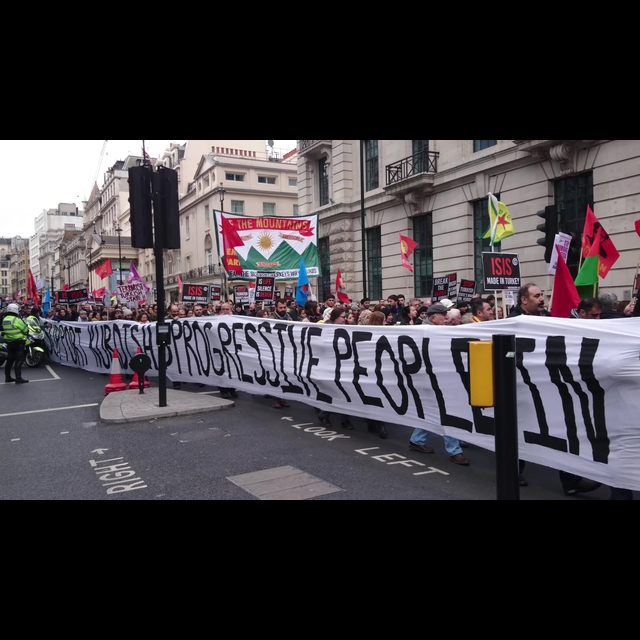YPG: (492, 205, 513, 232)
